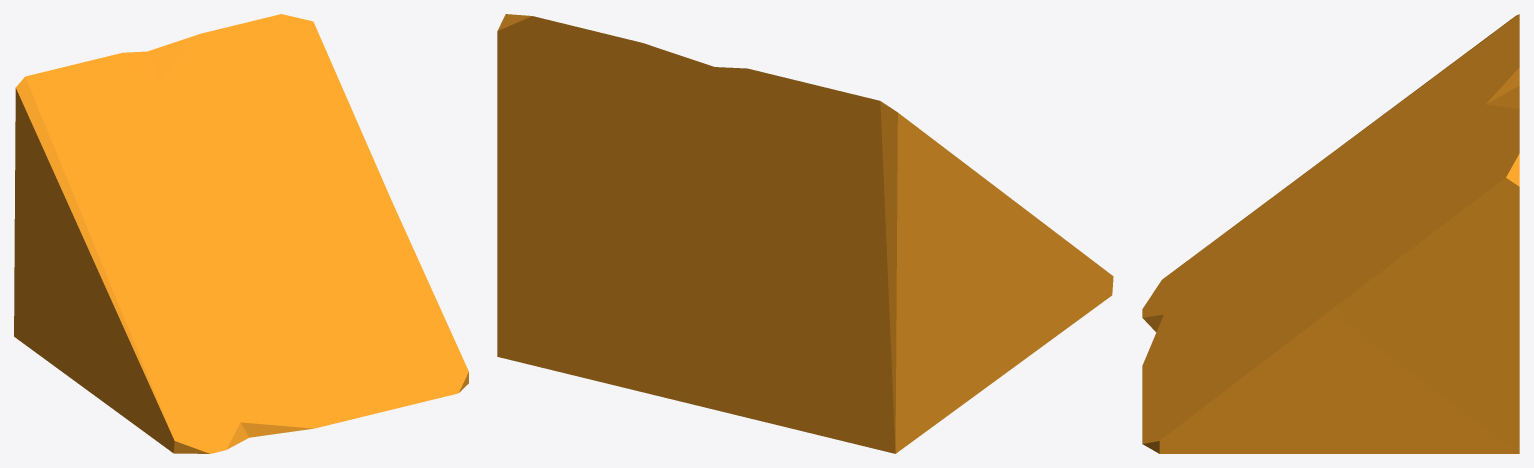
The model's file is SM_Buildings_Ramp_40_1x1_01P.fbx.
3 renders of one model, left to right at view 1: azimuth 30°, elevation 25°; view 2: azimuth 150°, elevation 25°; view 3: azimuth 270°, elevation 25°, orthographic. The views are drawn at different scales.
Visible parts, largest first — view 1: SM_Buildings_Ramp_40_1x1_01P; view 2: SM_Buildings_Ramp_40_1x1_01P; view 3: SM_Buildings_Ramp_40_1x1_01P.
Part boxes in pixels (box(x1,y1,x2,y2)): SM_Buildings_Ramp_40_1x1_01P: box(14, 14, 468, 453); SM_Buildings_Ramp_40_1x1_01P: box(497, 14, 1113, 453); SM_Buildings_Ramp_40_1x1_01P: box(1142, 14, 1519, 453).
Bounding box in the file's own units: 100 × 83.85 × 100.
